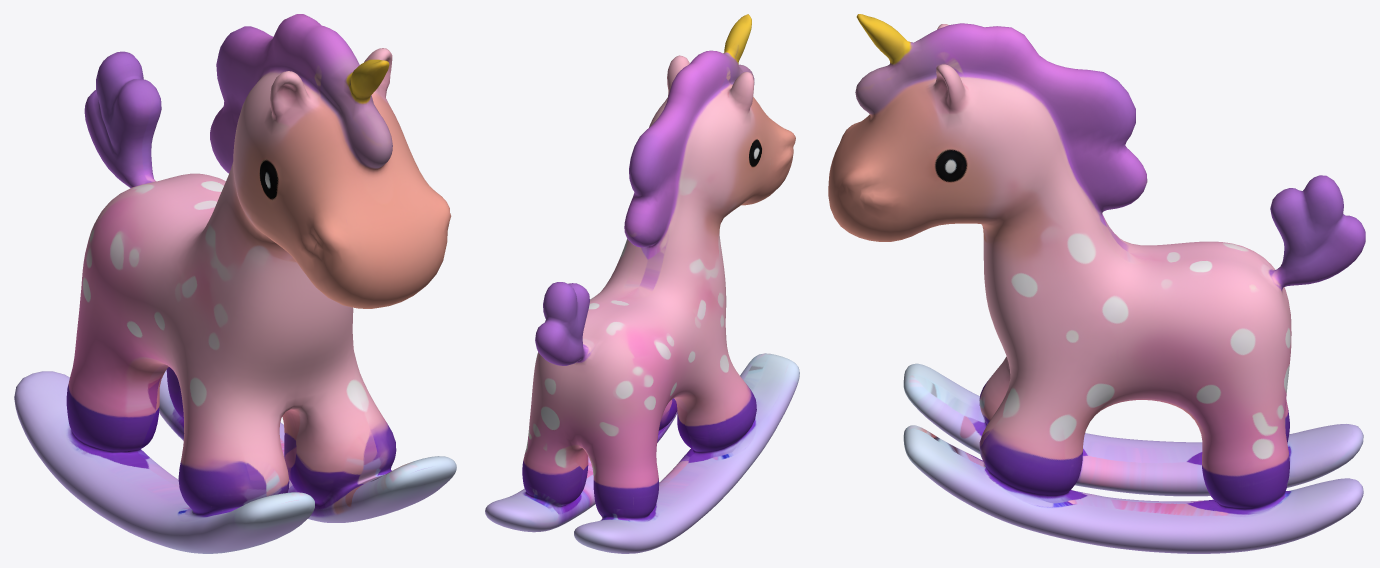
File: rocking_unicorn.glb
3 renders of one model, left to right at view 1: azimuth 30°, elevation 25°; view 2: azimuth 150°, elevation 25°; view 3: azimuth 270°, elevation 25°, orthographic. The views are drawn at different scales.
Visible parts, largest first — view 1: Object_2; view 2: Object_2; view 3: Object_2.
Boxes of the visible parts, x1,y1,x2,y2 form: Object_2: (14,14,456,553); Object_2: (485,14,799,553); Object_2: (828,14,1365,553).
Size of the model in its own units: 0.7611 by 1.88 by 1.83.
Materials: 1 (1 with a texture image).
